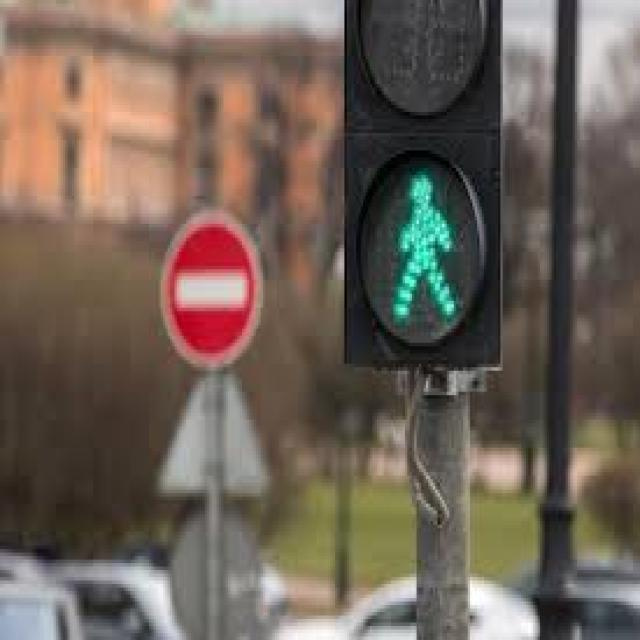green_light: (380, 172, 465, 334)
